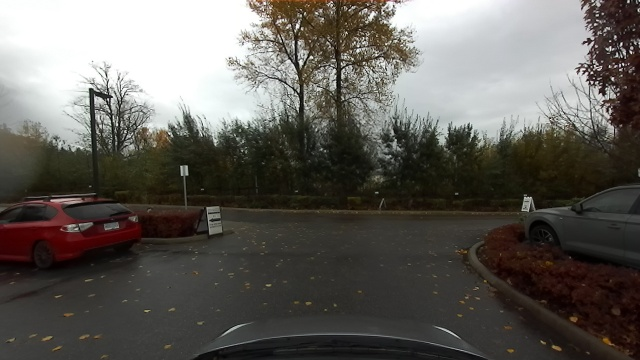car: (1, 194, 141, 265), (527, 187, 636, 246)
